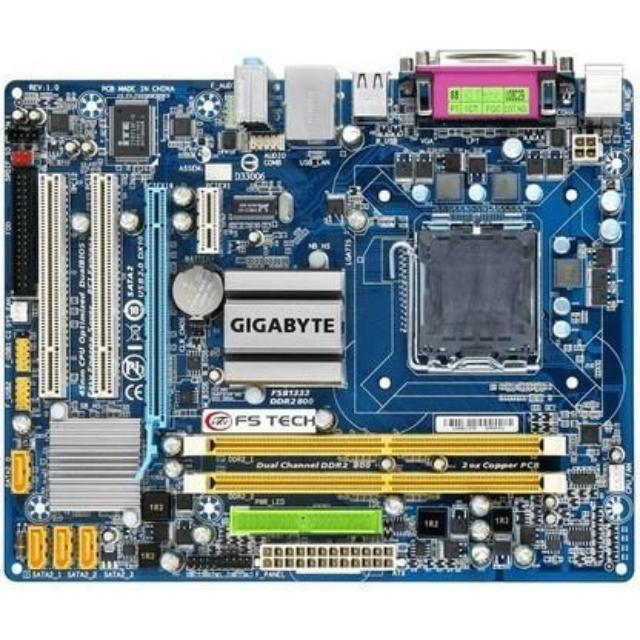Mainboard: (0, 47, 640, 595)
